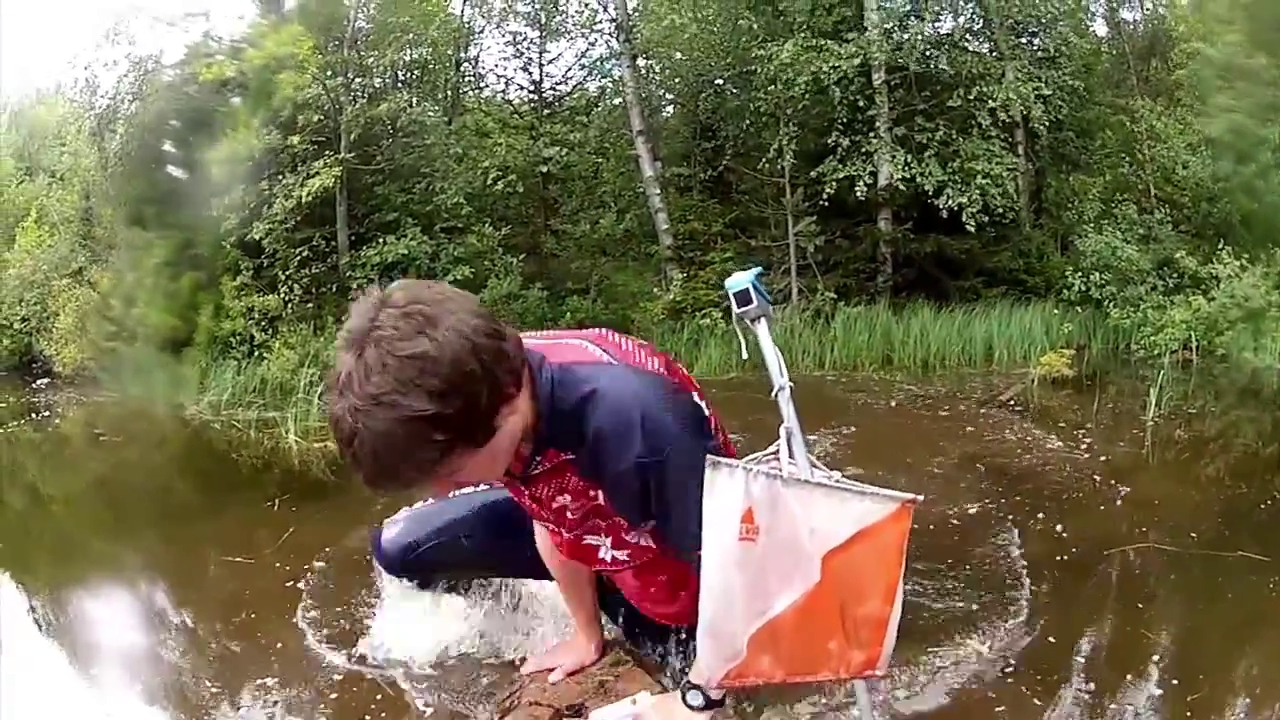person: (323, 277, 738, 720)
